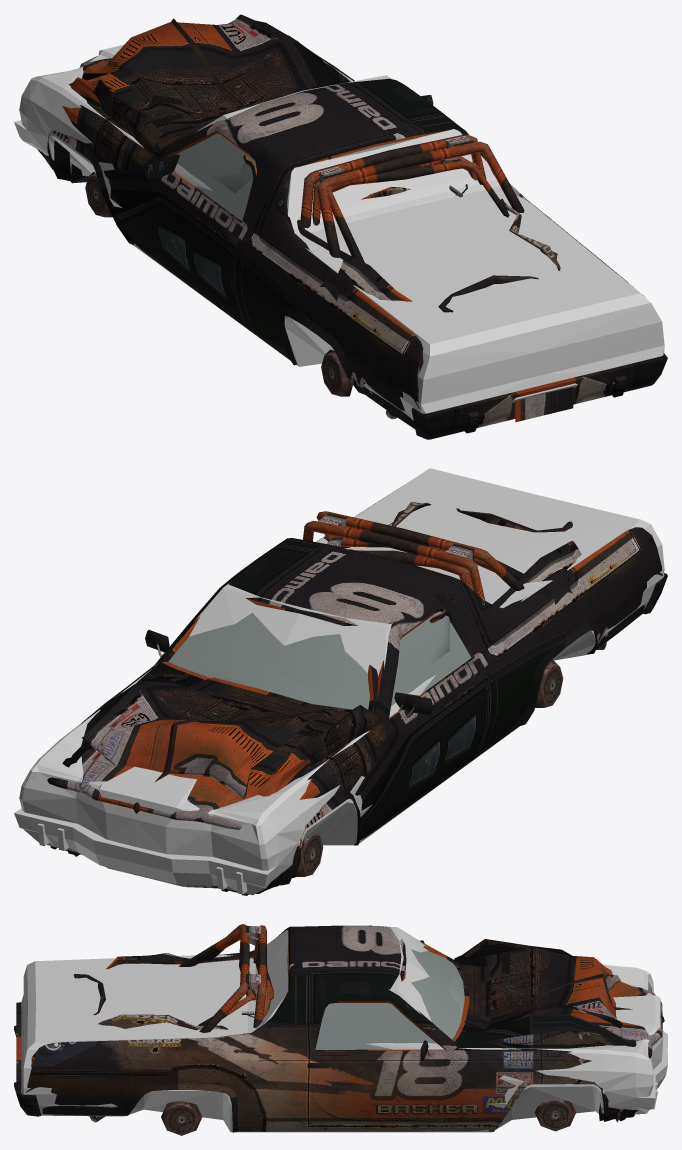
File: body_out.glb
3 renders of one model, top to bottom at view 1: azimuth 30°, elevation 25°; view 2: azimuth 150°, elevation 25°; view 3: azimuth 270°, elevation 25°, orthographic. The views are drawn at different scales.
Parts seen in each view (by area): view 1: body_shadow, Surface24, Surface9_crash, Surface18, Surface24_crash, Surface14, Surface22, Surface19, Surface14_crash, Surface9, Surface23, wheelhub_rl (+2 smaller); view 2: body_shadow, Surface24, Surface9_crash, Surface18, Surface27, Surface24_crash, Surface14, Surface9, Surface19, Surface14_crash, Surface27_crash, wheelhub_rl (+3 smaller); view 3: Surface24, body_shadow, Surface20, Surface9_crash, Surface12, Surface24_crash, Surface21, Surface12_crash, Surface27, Surface9, Surface14_crash, wheelhub_rr (+3 smaller).
Part boxes in pixels (left/top/right/bottom): body_shadow: left=14, top=44, right=664, bottom=429; Surface24: left=148, top=78, right=644, bottom=428; Surface9_crash: left=82, top=14, right=338, bottom=118; Surface18: left=135, top=126, right=258, bottom=317; Surface24_crash: left=168, top=101, right=560, bottom=301; Surface14: left=45, top=100, right=169, bottom=259; Surface22: left=411, top=353, right=667, bottom=439; Surface19: left=175, top=133, right=255, bottom=220; Surface14_crash: left=54, top=77, right=162, bottom=153; Surface9: left=80, top=56, right=330, bottom=133; Surface23: left=515, top=387, right=573, bottom=422; wheelhub_rl: left=321, top=349, right=352, bottom=396; body_shadow: left=14, top=468, right=664, bottom=895; Surface24: left=154, top=491, right=662, bottom=827; Surface9_crash: left=82, top=678, right=340, bottom=798; Surface18: left=385, top=605, right=496, bottom=813; Surface27: left=168, top=613, right=367, bottom=694; Surface24_crash: left=192, top=501, right=581, bottom=724; Surface14: left=228, top=721, right=388, bottom=885; Surface9: left=57, top=723, right=331, bottom=828; Surface19: left=391, top=611, right=471, bottom=706; Surface14_crash: left=257, top=705, right=382, bottom=877; Surface27_crash: left=213, top=669, right=369, bottom=709; wheelhub_rl: left=535, top=660, right=563, bottom=707; Surface24: left=26, top=924, right=487, bottom=1132; body_shadow: left=21, top=927, right=667, bottom=1132; Surface20: left=296, top=997, right=465, bottom=1121; Surface9_crash: left=485, top=947, right=622, bottom=1030; Surface12: left=453, top=1039, right=651, bottom=1131; Surface24_crash: left=98, top=929, right=599, bottom=1116; Surface21: left=315, top=1003, right=436, bottom=1049; Surface12_crash: left=463, top=1014, right=636, bottom=1119; Surface27: left=411, top=949, right=461, bottom=1039; Surface9: left=485, top=970, right=664, bottom=1053; Surface14_crash: left=454, top=939, right=612, bottom=974; wheelhub_rr: left=161, top=1101, right=202, bottom=1135.
Bounding box in the file's own units: 2.11 × 1.3 × 5.33.
